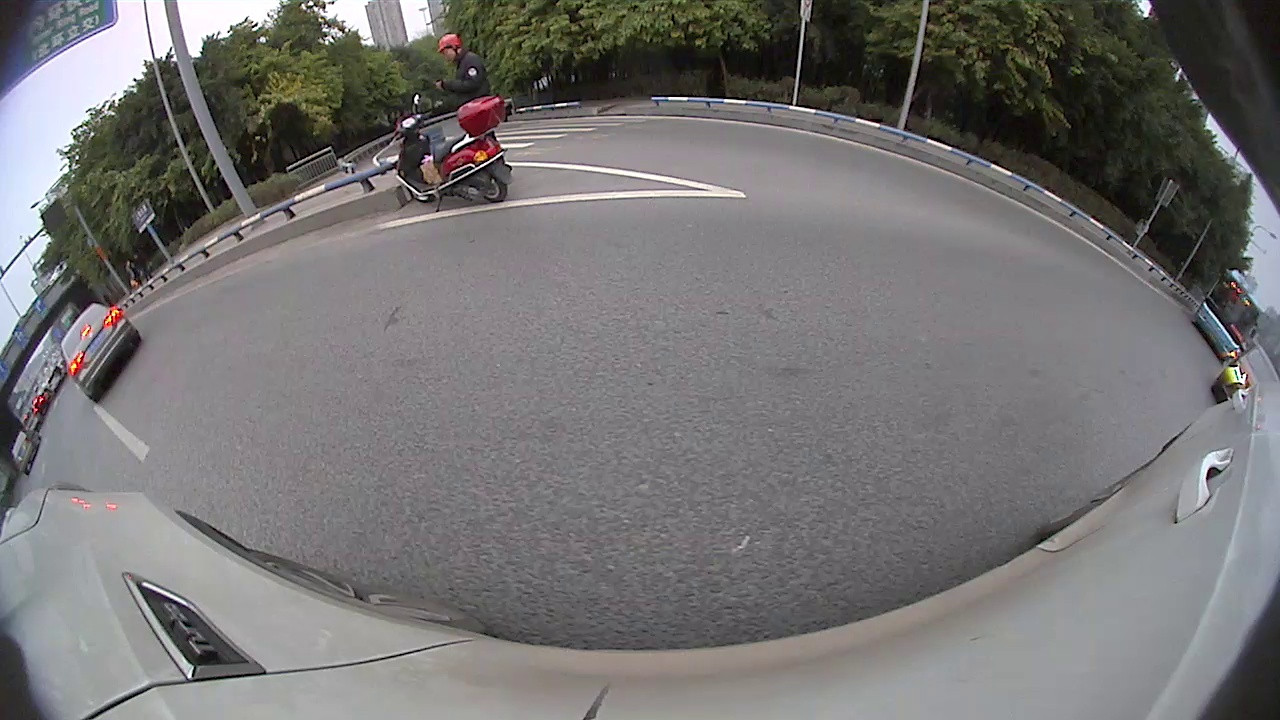bus: (1193, 267, 1263, 365)
car: (57, 299, 142, 403), (1212, 345, 1278, 417), (7, 426, 42, 477)
person: (437, 31, 484, 115)
rear: (127, 329, 143, 346), (91, 388, 105, 407)
rider: (391, 90, 514, 205)
